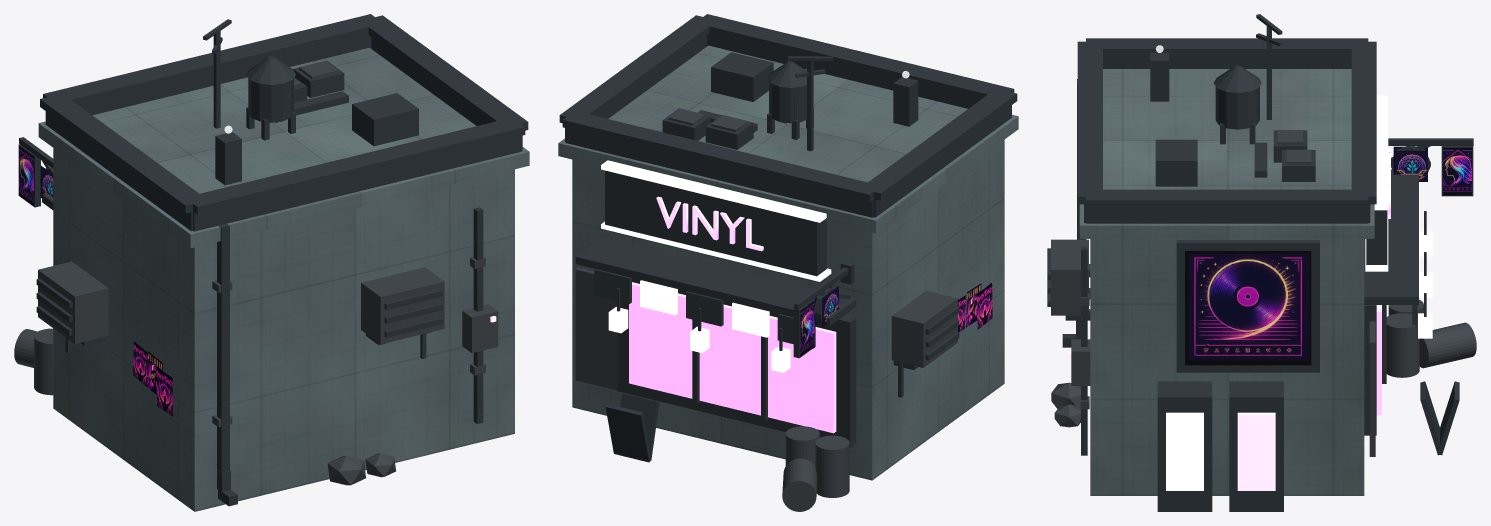
File: synthwave-shop-f.glb
3 views of the same model, side by side, from view 1: azimuth 30°, elevation 25°; view 2: azimuth 150°, elevation 25°; view 3: azimuth 270°, elevation 25° (orthographic). The views are drawn at different scales.
Visible parts, largest first — view 1: Shop_Body2, Shop_Frame, Shop_Door, RK_Duct, RK_WtTank-2_2, Shop_ShopPosters, RK_Vent, RK_WtCap-2_2, RK_AcBox18_15, Shop_BrkBrandVINYL, RK_AcDuct8_15, RK_AntMast-12_10; view 2: Shop_Body2, Shop_Frame, ShopPane, Shop_Door, Shop_NeonA, Shop_PaneOff, RK_Duct, Shop_PaneADim, ShopSignText, Shop_DimA, RK_WtTank-2_2, Shop_ShopPosters (+6 smaller); view 3: Shop_Body2, Shop_Frame, Sign_ShopBr, Shop_Door, VendGlow1, VendGlow0, RK_Duct, Shop_NeonA, RK_WtTank-2_2, Shop_BrkBrandVINYL, Shop_DimA, RK_Vent (+6 smaller).
Part boxes in pixels (x1=…): Shop_Body2: x1=38, y1=47, x2=529, y2=511; Shop_Frame: x1=18, y1=14, x2=528, y2=506; Shop_Door: x1=14, y1=257, x2=498, y2=485; RK_Duct: x1=352, y1=93, x2=418, y2=146; RK_WtTank-2_2: x1=248, y1=78, x2=293, y2=122; Shop_ShopPosters: x1=133, y1=341, x2=173, y2=416; RK_Vent: x1=215, y1=132, x2=241, y2=185; RK_WtCap-2_2: x1=246, y1=56, x2=295, y2=84; RK_AcBox18_15: x1=293, y1=60, x2=344, y2=97; Shop_BrkBrandVINYL: x1=18, y1=146, x2=33, y2=205; RK_AcDuct8_15: x1=294, y1=91, x2=348, y2=115; RK_AntMast-12_10: x1=213, y1=30, x2=220, y2=128; Shop_Body2: x1=558, y1=45, x2=1018, y2=480; Shop_Frame: x1=559, y1=14, x2=1017, y2=462; ShopPane: x1=629, y1=282, x2=836, y2=433; Shop_Door: x1=575, y1=267, x2=957, y2=511; Shop_NeonA: x1=601, y1=160, x2=831, y2=281; Shop_PaneOff: x1=594, y1=269, x2=815, y2=348; RK_Duct: x1=711, y1=52, x2=773, y2=101; Shop_PaneADim: x1=640, y1=280, x2=769, y2=337; ShopSignText: x1=656, y1=196, x2=763, y2=251; Shop_DimA: x1=608, y1=307, x2=790, y2=372; RK_WtTank-2_2: x1=769, y1=81, x2=806, y2=123; Shop_ShopPosters: x1=958, y1=283, x2=992, y2=332; Shop_Body2: x1=1079, y1=69, x2=1374, y2=495; Shop_Frame: x1=1047, y1=38, x2=1473, y2=511; Sign_ShopBr: x1=1185, y1=251, x2=1311, y2=365; Shop_Door: x1=1051, y1=239, x2=1476, y2=456; VendGlow1: x1=1237, y1=412, x2=1275, y2=490; VendGlow0: x1=1166, y1=412, x2=1203, y2=490; RK_Duct: x1=1155, y1=139, x2=1197, y2=186; Shop_NeonA: x1=1365, y1=95, x2=1388, y2=271; RK_WtTank-2_2: x1=1215, y1=86, x2=1259, y2=129; Shop_BrkBrandVINYL: x1=1443, y1=148, x2=1471, y2=195; Shop_DimA: x1=1418, y1=231, x2=1432, y2=338; RK_Vent: x1=1150, y1=52, x2=1169, y2=101.
Bounding box in the file's own units: 1.05 × 0.984 × 1.02.
17 materials, 5 textured.
